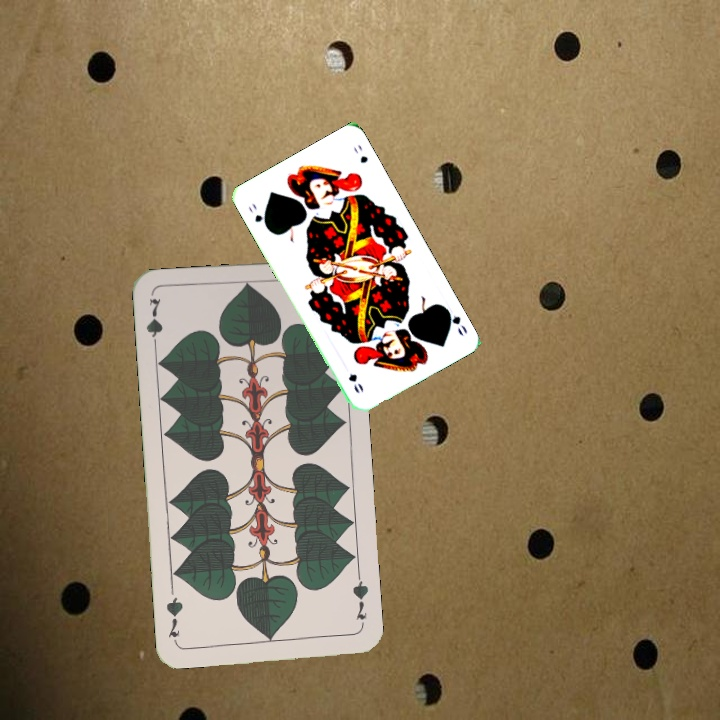G7: (142, 294, 166, 353), (348, 571, 371, 622)
GO: (440, 303, 470, 339), (244, 199, 271, 232)
